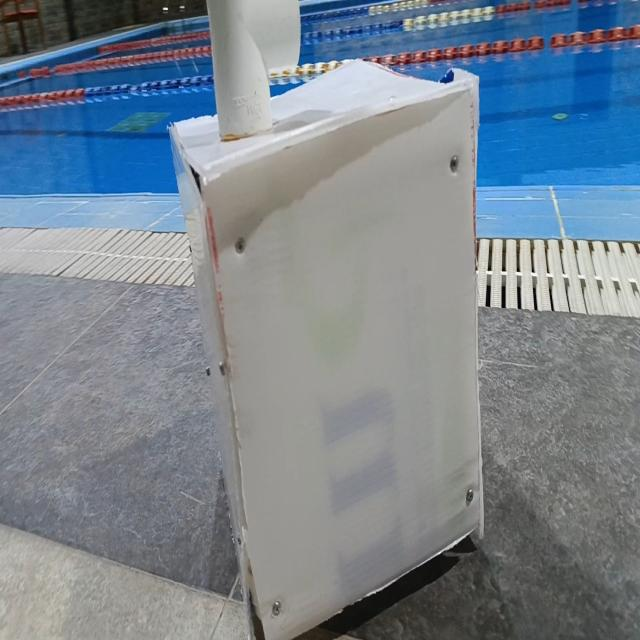Cube: (167, 56, 485, 636)
